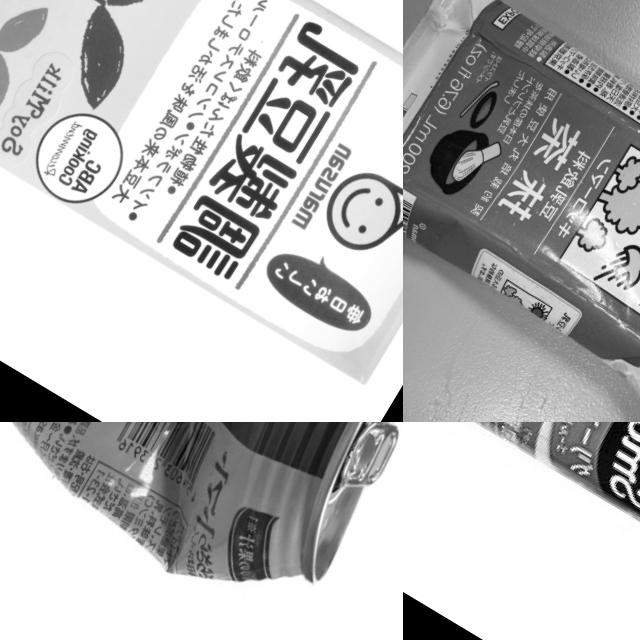Aluminium Foil: (0, 0, 403, 385), (403, 0, 640, 422), (403, 422, 640, 640)
Can: (0, 422, 403, 640)
